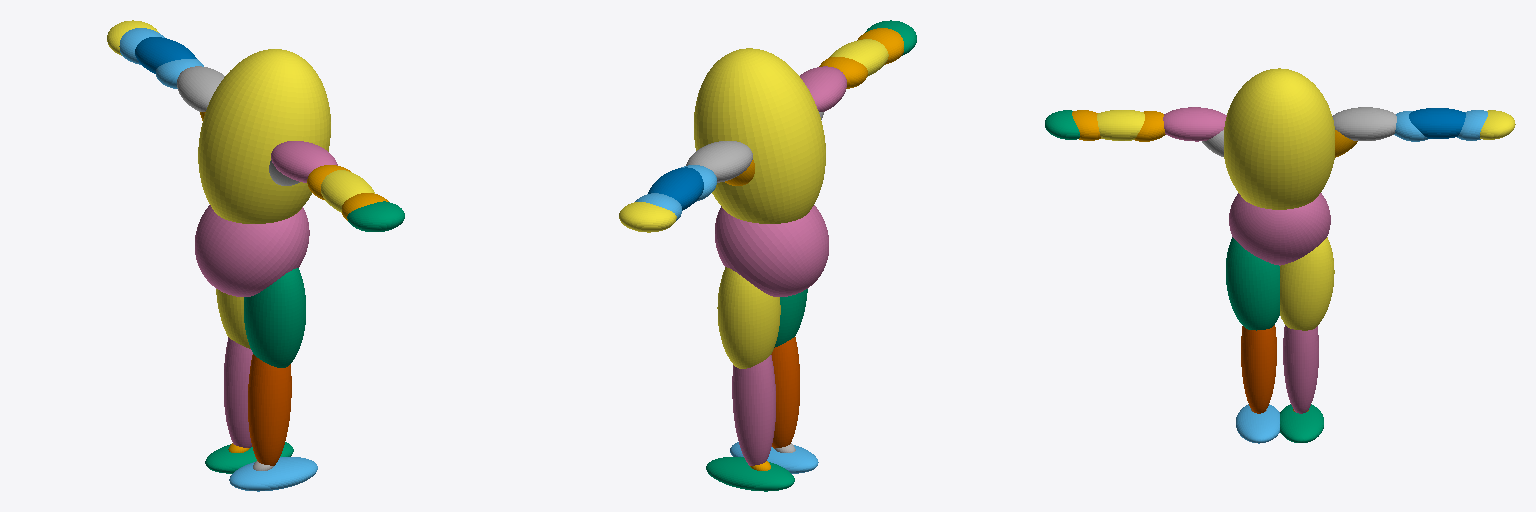
--- Render facts (derived) ---
The picture shows the robot from 3 angles, left to right: view 1: azimuth 30°, elevation 25°; view 2: azimuth 150°, elevation 25°; view 3: azimuth 270°, elevation 25°; orthographic projection.
Robot: drc_skeleton — 28 links, 27 joints (27 revolute); root link pelvis; default pose: all joints at 0.
Links seen in each view (by area): view 1: utorso, pelvis, r_uleg, r_lleg, l_lleg, r_foot, r_scap, l_scap, r_hand, l_larm, r_larm, l_uleg (+6 smaller); view 2: utorso, pelvis, l_uleg, l_lleg, r_lleg, l_foot, l_scap, r_scap, l_larm, l_hand, r_larm, r_uleg (+4 smaller); view 3: utorso, pelvis, l_uleg, r_uleg, r_lleg, l_lleg, l_scap, r_scap, l_larm, r_foot, l_foot, r_larm (+6 smaller).
Boxes of the visible links, x1,y1,x2,y2 form: utorso: (198,49,330,223); pelvis: (195,205,309,296); r_uleg: (244,268,305,367); r_lleg: (248,354,291,465); l_lleg: (224,337,252,447); r_foot: (229,457,317,491); r_scap: (271,141,337,182); l_scap: (177,66,224,111); r_hand: (347,201,404,231); l_larm: (135,37,196,73); r_larm: (321,170,374,212); l_uleg: (216,289,250,348); utorso: (694,48,825,223); pelvis: (715,205,828,296); l_uleg: (717,267,780,368); l_lleg: (732,355,775,465); r_lleg: (771,337,799,448); l_foot: (706,457,794,491); l_scap: (686,141,752,182); r_scap: (800,66,846,111); l_larm: (648,167,703,210); l_hand: (619,202,676,232); r_larm: (829,39,888,76); r_uleg: (774,289,807,347); utorso: (1224,68,1334,209); pelvis: (1229,193,1330,265); l_uleg: (1280,237,1334,330); r_uleg: (1226,237,1279,330); r_lleg: (1241,325,1276,413); l_lleg: (1283,325,1318,413); l_scap: (1332,107,1396,140); r_scap: (1163,107,1226,141); l_larm: (1409,108,1465,138); r_foot: (1236,404,1279,443); l_foot: (1280,404,1323,442); r_larm: (1097,110,1144,140).
Bounding box of the posed robot: 0.5073 × 1.99 × 1.7 m (x, y, z).
Meshes: 28 distinct files referenced, 28 mesh visuals loaded (28 binary STL).

The robot description file, URDF, robot "drc_skeleton":
<!-- These are atlas torso and limb models, for full Atlas robot model, please see
     xacro files containing fully assembed robots in ellipsoidal_atlas/robots/ -->
<robot name="drc_skeleton">
    <link name="l_clav">
        <inertial>
            <mass value="2.369" />
            <origin xyz="0.014 0.058 0.029" rpy="0 -0 0" />
            <inertia ixx="0.004" ixy="0.001" ixz="0" iyy="0.006" iyz="0" izz="0.007" />
        </inertial>
        <visual>
            <origin xyz="0 0 0" rpy="1.04719755 0 0" />
            <geometry>
                <mesh filename="package://ellipsoidal_atlas/meshes/ellip_l_clav.stl" scale="1 1 1" />
            </geometry>
        </visual>
        <collision>
          <origin rpy="0 1.5707963267949 0" xyz="0 0.0697 0.0261"/>
          <geometry>
            <cylinder radius="0.045" length="0.1525"/>
          </geometry>
        </collision>
        <collision>
          <origin rpy="1.0472 0 0" xyz="-0.005 -0.0074 -0.0538"/>
          <geometry>
            <box size="0.13 0.15 0.05"/>
          </geometry>
        </collision>
    </link>
    <link name="l_farm">
        <inertial>
            <mass value="0.981" />
            <origin xyz="0 0.041 0" rpy="0 -0 0" />
            <inertia ixx="0.003" ixy="0" ixz="0" iyy="0.001" iyz="0" izz="0.003" />
        </inertial>
        <visual>
            <origin xyz="0 -0.06 0" rpy="0 -0 0" />
            <geometry>
                <mesh filename="package://ellipsoidal_atlas/meshes/ellip_l_farm.stl" scale="1 1 1" />
            </geometry>
        </visual>
        <collision>
          <origin rpy="0 1.5708 0" xyz="0.0 0.065 0.004"/>
          <geometry>
            <cylinder radius="0.045" length="0.125"/>
          </geometry>
        </collision>
        <collision>
          <origin rpy="0 0 0" xyz="0.001 0.015 -0.002"/>
          <geometry>
            <box size="0.135 0.1 0.045"/>
          </geometry>
        </collision>
    </link>
    <link name="l_foot">
        <inertial>
            <mass value="1.634" />
            <origin xyz="0.027 0 -0.067" rpy="0 -0 0" />
            <inertia ixx="0.002" ixy="0" ixz="0" iyy="0.007" iyz="0" izz="0.008" />
        </inertial>
        <visual>
            <origin xyz="0 0 0" rpy="0 -0 0" />
            <geometry>
                <mesh filename="package://ellipsoidal_atlas/meshes/ellip_l_foot.stl" scale="1 1 1" />
            </geometry>
        </visual>
        <!-- bottom -->
        <collision>
          <origin xyz="0.048 0 -0.056119" rpy="0 0 0"/>
          <geometry>
            <box size="0.26 0.124887 0.05"/>
          </geometry>
        </collision>
        <!-- ankle FIXME: adding this collision body destabilizes robot, shouldn't
        <collision>
          <origin xyz="0.0 0 -0.0528735" rpy="0 0 0"/>
          <geometry>
            <cylinder radius="0.0373" length="0.037827"/>
          </geometry>
        </collision>
        -->
    </link>
    <link name="l_hand">
        <inertial>
            <mass value="2.263" />
            <origin xyz="0 0.093 0" rpy="0 -0 0" />
            <inertia ixx="0.01" ixy="0" ixz="0" iyy="0.002" iyz="0" izz="0.01" />
        </inertial>
        <visual>
            <origin xyz="0 0 0" rpy="0 -0 0" />
            <geometry>
                <mesh filename="package://ellipsoidal_atlas/meshes/ellip_l_hand.stl" scale="1 1 1" />
            </geometry>
        </visual>
        <collision>
          <origin rpy="1.5707963267949 0 0" xyz="0.001 0.1 0.01"/>
          <geometry>
            <cylinder radius="0.03" length="0.05"/>
          </geometry>
        </collision>
        <collision>
          <origin rpy="0 0 0" xyz="0.001 0.05 0.01"/>
          <geometry>
            <box size="0.13 0.09 0.07"/>
          </geometry>
        </collision>
    </link>
    <link name="l_larm">
        <inertial>
            <mass value="2.148" />
            <origin xyz="-0.003 0.099 -0.014" rpy="0 -0 0" />
            <inertia ixx="0.005" ixy="0" ixz="0" iyy="0.003" iyz="0" izz="0.006" />
        </inertial>
        <visual>
            <origin xyz="0 0 0" rpy="0 -0 0" />
            <geometry>
                <mesh filename="package://ellipsoidal_atlas/meshes/ellip_l_larm.stl" scale="1 1 1" />
            </geometry>
        </visual>
        <collision>
          <origin rpy="1.5707963267949 0 0" xyz="0.001 0.127 0.00"/>
          <geometry>
            <cylinder radius="0.045" length="0.125"/>
          </geometry>
        </collision>
        <collision>
          <origin rpy="0 0 0" xyz="0.001 0.051 0.0"/>
          <geometry>
            <box size="0.135 0.15 0.06"/>
          </geometry>
        </collision>
    </link>
    <link name="l_lglut">
        <inertial>
            <mass value="0.69" />
            <origin xyz="0.0133341 0.0170484 -0.0312052" rpy="0 -0 0" />
            <inertia ixx="0.000691326" ixy="-2.24344e-05" ixz="2.50508e-06" iyy="0.00126856" iyz="0.000137862" izz="0.00106487" />
        </inertial>
        <visual>
            <origin xyz="0 0 0" rpy="0 -0 0" />
            <geometry>
                <mesh filename="package://ellipsoidal_atlas/meshes/ellip_l_lglut.stl" scale="1 1 1" />
            </geometry>
        </visual>
        <collision>
          <origin rpy="1.5707963267949 0 0" xyz="0.049968 0.022488 -0.0501165"/>
          <geometry>
            <cylinder radius="0.02009687" length="0.060306"/>
          </geometry>
        </collision>
        <collision>
          <origin rpy="0 1.5707963267949 0" xyz="0 0 0"/>
          <geometry>
            <cylinder radius="0.02" length="0.12"/>
          </geometry>
        </collision>
    </link>
    <link name="l_lleg">
        <inertial>
            <mass value="4.367" />
            <origin xyz="0.001 0 -0.187" rpy="0 -0 0" />
            <inertia ixx="0.077" ixy="0" ixz="-0.003" iyy="0.076" iyz="0" izz="0.01" />
        </inertial>
        <visual>
            <origin xyz="0 0 0" rpy="0 -0 0" />
            <geometry>
                <mesh filename="package://ellipsoidal_atlas/meshes/ellip_l_lleg.stl" scale="1.0 1.0 1.0" />
            </geometry>
        </visual>
        <collision>
          <origin rpy="0 0.10 0" xyz="0.02 0.00295 -0.18"/>
          <geometry>
            <cylinder radius="0.07" length="0.40"/>
          </geometry>
        </collision>
    </link>
    <link name="l_scap">
        <inertial>
            <mass value="2.707" />
            <origin xyz="-0.002 0.108 0" rpy="0 -0 0" />
            <inertia ixx="0.01" ixy="0" ixz="0" iyy="0.005" iyz="0" izz="0.013" />
        </inertial>
        <visual>
            <origin xyz="0 0 0" rpy="0 0 0" />
            <geometry>
                <mesh filename="package://ellipsoidal_atlas/meshes/ellip_l_scap.stl" scale="1 1 1" />
            </geometry>
        </visual>
        <collision>
          <origin rpy="1.5707963267949 0 0" xyz="0.001 0.12651 0.01521"/>
          <geometry>
            <cylinder radius="0.045" length="0.125"/>
          </geometry>
        </collision>
        <collision>
          <origin rpy="0 0 0" xyz="0.001 0.05 0.016"/>
          <geometry>
            <box size="0.15 0.15 0.06"/>
          </geometry>
        </collision>
    </link>
    <link name="l_talus">
        <inertial>
            <mass value="0.1" />
            <origin xyz="0 0 0" rpy="0 -0 0" />
            <inertia ixx="1.01674e-05" ixy="0" ixz="0" iyy="8.42775e-06" iyz="0" izz="1.30101e-05" />
        </inertial>
        <visual>
            <origin xyz="0 0 0" rpy="0 -0 0" />
            <geometry>
                <mesh filename="package://ellipsoidal_atlas/meshes/ellip_l_talus.stl" scale="1 1 1" />
            </geometry>
        </visual>
        <collision>
          <origin rpy="0 1.5707963267949 0" xyz="0 0 0"/>
          <geometry>
            <cylinder radius="0.010181" length="0.029542"/>
          </geometry>
        </collision>
        <collision>
          <origin rpy="1.5707963267949 0 0" xyz="0 0 0"/>
          <geometry>
            <cylinder radius="0.010348" length="0.010059"/>
          </geometry>
        </collision>
    </link>
    <link name="l_uarm">
        <inertial>
            <mass value="1.881" />
            <origin xyz="0.007 0.114 0.008" rpy="0 -0 0" />
            <inertia ixx="0.002" ixy="0" ixz="0" iyy="0.003" iyz="0" izz="0.003" />
        </inertial>
        <visual>
            <origin xyz="0 0 0" rpy="0 -0 0" />
            <geometry>
                <mesh filename="package://ellipsoidal_atlas/meshes/ellip_l_uarm.stl" scale="1 1 1" />
            </geometry>
        </visual>
        <collision>
          <origin rpy="0 1.5708 0" xyz="0.001 0.111 0.0"/>
          <geometry>
            <cylinder radius="0.045" length="0.125"/>
          </geometry>
        </collision>
        <collision>
          <origin rpy="0 1.5707963267949 0" xyz="0.001 0.043 0.01"/>
          <geometry>
            <box size="0.04 0.07 0.13"/>
          </geometry>
        </collision>
    </link>
    <link name="l_uglut">
        <inertial>
            <mass value="0.5166" />
            <origin xyz="0.00529262 -0.00344732 0.00313046" rpy="0 -0 0" />
            <inertia ixx="0.00074276" ixy="-3.79607e-08" ixz="-2.79549e-05" iyy="0.000688179" iyz="-3.2735e-08" izz="0.00041242" />
        </inertial>
        <visual>
            <origin xyz="0 0 0" rpy="0 -0 0" />
            <geometry>
                <mesh filename="package://ellipsoidal_atlas/meshes/ellip_l_uglut.stl" scale="1 1 1" />
            </geometry>
        </visual>
        <collision>
          <origin rpy="0 1.5707963267949 0" xyz="0 0 0"/>
          <geometry>
            <cylinder radius="0.019096" length="0.078396"/>
          </geometry>
        </collision>
        <collision>
          <origin rpy="0 0 0" xyz="0 0 0"/>
          <geometry>
            <cylinder radius="0.019841" length="0.080842"/>
          </geometry>
        </collision>
    </link>
    <link name="l_uleg">
        <inertial>
            <mass value="7.34" />
            <origin xyz="0 0 -0.21" rpy="0 -0 0" />
            <inertia ixx="0.09" ixy="0" ixz="0" iyy="0.09" iyz="0" izz="0.02" />
        </inertial>
        <visual>
            <origin xyz="0 0 0" rpy="0 -0 0" />
            <geometry>
                <mesh filename="package://ellipsoidal_atlas/meshes/ellip_l_uleg.stl" scale="1.0 1.0 1.0" />
            </geometry>
        </visual>
        <collision>
          <origin rpy="0 0 0" xyz="-0.0179 0.02085 -0.13"/>
          <geometry>
            <cylinder radius="0.1" length="0.10"/>
          </geometry>
        </collision>
        <collision>
          <origin rpy="0 -0.3 0" xyz="-0.03 0.01 -0.23"/>
          <geometry>
            <cylinder radius="0.07" length="0.15"/>
          </geometry>
        </collision>
        <collision>
          <origin rpy="0 0.3 0" xyz="-0.005 0.01 -0.23"/>
          <geometry>
            <cylinder radius="0.07" length="0.15"/>
          </geometry>
        </collision>
        <collision>
          <origin rpy="-0.25 0 0" xyz="-0.02 0.03 -0.23"/>
          <geometry>
            <cylinder radius="0.07" length="0.15"/>
          </geometry>
        </collision>
    </link>
    <link name="ltorso">
        <inertial>
            <mass value="1.92" />
            <origin xyz="-0.0112984 -3.15366e-06 0.0746835" rpy="0 -0 0" />
            <inertia ixx="0.0039092" ixy="-5.04491e-08" ixz="-0.000342157" iyy="0.00341694" iyz="4.87119e-07" izz="0.00174492" />
        </inertial>
        <visual>
            <origin xyz="0 0 0" rpy="0 -0 0" />
            <geometry>
                <mesh filename="package://ellipsoidal_atlas/meshes/ellip_ltorso.stl" scale="1 1 1" />
            </geometry>
        </visual>
        <!-- this part is completely internal
        <collision>
          <origin rpy="0 0 0" xyz="0 0 0.039762"/>
          <geometry>
            <cylinder radius="0.025918" length="0.076922"/>
          </geometry>
        </collision>
        <collision>
          <origin rpy="1.5707963267949 0 0" xyz="0 0.0250065 0.09025"/>
          <geometry>
            <cylinder radius="0.014828" length="0.020367"/>
          </geometry>
        </collision>
        <collision>
          <origin rpy="1.5707963267949 0 0" xyz="0 -0.0248895 0.09025"/>
          <geometry>
            <cylinder radius="0.014828" length="0.020169"/>
          </geometry>
        </collision>
        -->
    </link>
    <link name="mtorso">
        <inertial>
            <mass value="0.55" />
            <origin xyz="-0.00816266 -0.0131245 0.0305974" rpy="0 -0 0" />
            <inertia ixx="0.000454181" ixy="-6.10764e-05" ixz="3.94009e-05" iyy="0.000483282" iyz="5.27463e-05" izz="0.000444215" />
        </inertial>
        <visual>
            <origin xyz="0 0 0" rpy="0 -0 0" />
            <geometry>
                <mesh filename="package://ellipsoidal_atlas/meshes/ellip_mtorso.stl" scale="1 1 1" />
            </geometry>
        </visual>
        <collision>
          <origin rpy="1.5707963267949 0 0" xyz="0 0 0"/>
          <geometry>
            <cylinder radius="0.017" length="0.03"/>
          </geometry>
        </collision>
        <collision>
          <origin rpy="0 1.5707963267949 0" xyz="0.0285 0 0.05"/>
          <geometry>
            <cylinder radius="0.015" length="0.02"/>
          </geometry>
        </collision>
        <collision>
          <origin rpy="0 1.5707963267949 0" xyz="-0.0285 0 0.05"/>
          <geometry>
            <cylinder radius="0.015" length="0.02"/>
          </geometry>
        </collision>
    </link>
    <link name="pelvis">
        <inertial>
            <mass value="14.2529" />
            <origin xyz="0.0111 0 0.0271" rpy="0 -0 0" />
            <inertia ixx="0.1244" ixy="0.0008" ixz="-0.0007"
                     iyy="0.0958" iyz="-0.0005"
                     izz="0.1167" />
        </inertial>
        <visual>
            <origin xyz="0 0 0" rpy="0 -0 0" />
            <geometry>
                <mesh filename="package://ellipsoidal_atlas/meshes/ellip_pelvis.stl" scale="1.0 1.0 1.0" />
            </geometry>
        </visual>
        <collision>
          <origin rpy="1.5707963267949 0 0" xyz="0.046 0.0 -0.02"/>
          <geometry>
            <cylinder radius="0.11" length="0.06"/>
          </geometry>
        </collision>
        <collision>
          <origin rpy="1.5707963267949 0 0" xyz="-0.03 0.0 -0.02"/>
          <geometry>
            <cylinder radius="0.11" length="0.06"/>
          </geometry>
        </collision>
        <collision>
          <origin rpy="0 0 0" xyz="0.01 0.042 0.09"/>
          <geometry>
            <cylinder radius="0.16" length="0.05"/>
          </geometry>
        </collision>
        <collision>
          <origin rpy="0 0 0" xyz="0.01 -0.042 0.09"/>
          <geometry>
            <cylinder radius="0.16" length="0.05"/>
          </geometry>
        </collision>
        <collision>
          <origin rpy="0 0 0" xyz="-0.1 0 -0.05"/>
          <geometry>
            <box size="0.1 0.15 0.2"/>
          </geometry>
        </collision>
    </link>
    <link name="r_clav">
        <inertial>
            <mass value="2.369" />
            <origin xyz="0.014 -0.058 0.029" rpy="0 -0 0" />
            <inertia ixx="0.004" ixy="-0.001" ixz="0" iyy="0.006" iyz="0" izz="0.007" />
        </inertial>
        <visual>
            <origin xyz="0 0 0" rpy="-1.04719755 0 0" />
            <geometry>
                <mesh filename="package://ellipsoidal_atlas/meshes/ellip_r_clav.stl" scale="1 1 1" />
            </geometry>
        </visual>
        <collision>
          <origin rpy="0 1.5707963267949 0" xyz="0 -0.0697 0.0261"/>
          <geometry>
            <cylinder radius="0.045" length="0.1525"/>
          </geometry>
        </collision>
        <collision>
          <origin rpy="-1.0472 0 0" xyz="-0.005 0.0074 -0.0538"/>
          <geometry>
            <box size="0.13 0.15 0.05"/>
          </geometry>
        </collision>
    </link>
    <link name="r_farm">
        <inertial>
            <mass value="0.981" />
            <origin xyz="0 -0.041 0" rpy="0 -0 0" />
            <inertia ixx="0.003" ixy="0" ixz="0" iyy="0.001" iyz="0" izz="0.003" />
        </inertial>
        <visual>
            <origin xyz="0 0.06 0" rpy="0 -0 0" />
            <geometry>
                <mesh filename="package://ellipsoidal_atlas/meshes/ellip_r_farm.stl" scale="1 1 1" />
            </geometry>
        </visual>
        <collision>
          <origin rpy="0 1.5708 0" xyz="0.0 -0.065 0.004"/>
          <geometry>
            <cylinder radius="0.045" length="0.125"/>
          </geometry>
        </collision>
        <collision>
          <origin rpy="0 0 0" xyz="0.001 -0.015 -0.002"/>
          <geometry>
            <box size="0.135 0.1 0.045"/>
          </geometry>
        </collision>
    </link>
    <link name="r_foot">
        <inertial>
            <mass value="1.634" />
            <origin xyz="0.027 0 -0.067" rpy="0 -0 0" />
            <inertia ixx="0.002" ixy="0" ixz="0" iyy="0.007" iyz="0" izz="0.008" />
        </inertial>
        <visual>
            <origin xyz="0 0 0" rpy="0 -0 0" />
            <geometry>
                <mesh filename="package://ellipsoidal_atlas/meshes/ellip_r_foot.stl" scale="1 1 1" />
            </geometry>
        </visual>
        <!-- bottom -->
        <collision>
          <origin xyz="0.048 0 -0.056119" rpy="0 0 0"/>
          <geometry>
            <box size="0.26 0.124887 0.05"/>
          </geometry>
        </collision>
        <!-- ankle FIXME: adding this collision body destabilizes robot, shouldn't
        <collision>
          <origin xyz="0.0 0 -0.0528735" rpy="0 0 0"/>
          <geometry>
            <cylinder radius="0.0373" length="0.037827"/>
          </geometry>
        </collision>
        -->
    </link>
    <link name="r_hand">
        <inertial>
            <mass value="2.263" />
            <origin xyz="0 -0.093 0" rpy="0 -0 0" />
            <inertia ixx="0.01" ixy="0" ixz="0" iyy="0.002" iyz="0" izz="0.01" />
        </inertial>
        <visual>
            <origin xyz="0 0 0" rpy="0 -0 0" />
            <geometry>
                <mesh filename="package://ellipsoidal_atlas/meshes/ellip_r_hand.stl" scale="1 1 1" />
            </geometry>
        </visual>
        <collision>
          <origin rpy="1.5707963267949 0 0" xyz="0.001 -0.1 0.01"/>
          <geometry>
            <cylinder radius="0.03" length="0.05"/>
          </geometry>
        </collision>
        <collision>
          <origin rpy="0 0 0" xyz="0.001 -0.05 0.01"/>
          <geometry>
            <box size="0.13 0.09 0.07"/>
          </geometry>
        </collision>
    </link>
    <link name="r_larm">
        <inertial>
            <mass value="2.148" />
            <origin xyz="-0.003 -0.099 -0.014" rpy="0 -0 0" />
            <inertia ixx="0.005" ixy="0" ixz="0" iyy="0.003" iyz="0" izz="0.006" />
        </inertial>
        <visual>
            <origin xyz="0 0 0" rpy="0 -0 0" />
            <geometry>
                <mesh filename="package://ellipsoidal_atlas/meshes/ellip_r_larm.stl" scale="1.0 1.0 1.0" />
            </geometry>
        </visual>
        <collision>
          <origin rpy="1.5707963267949 0 0" xyz="0.001 -0.127 0.00"/>
          <geometry>
            <cylinder radius="0.045" length="0.125"/>
          </geometry>
        </collision>
        <collision>
          <origin rpy="0 0 0" xyz="0.001 -0.051 0.0"/>
          <geometry>
            <box size="0.135 0.15 0.06"/>
          </geometry>
        </collision>
    </link>
    <link name="r_lglut">
        <inertial>
            <mass value="0.69" />
            <origin xyz="0.0133341 -0.0170484 -0.0312052" rpy="0 -0 0" />
            <inertia ixx="0.000691326" ixy="2.24344e-05" ixz="2.50508e-06" iyy="0.00126856" iyz="-0.000137862" izz="0.00106487" />
        </inertial>
        <visual>
            <origin xyz="0 0 0" rpy="0 -0 0" />
            <geometry>
                <mesh filename="package://ellipsoidal_atlas/meshes/ellip_r_lglut.stl" scale="1.0 1.0 1.0" />
            </geometry>
        </visual>
        <collision>
          <origin rpy="1.5707963267949 0 0" xyz="0.049968 -0.022488 -0.0501165"/>
          <geometry>
            <cylinder radius="0.02009687" length="0.060306"/>
          </geometry>
        </collision>
        <collision>
          <origin rpy="0 1.5707963267949 0" xyz="0 0 0"/>
          <geometry>
            <cylinder radius="0.02" length="0.12"/>
          </geometry>
        </collision>
    </link>
    <link name="r_lleg">
        <inertial>
            <mass value="4.367" />
            <origin xyz="0.001 0 -0.187" rpy="0 -0 0" />
            <inertia ixx="0.077" ixy="-0" ixz="-0.003" iyy="0.076" iyz="-0" izz="0.01" />
        </inertial>
        <visual>
            <origin xyz="0 0 0" rpy="0 -0 0" />
            <geometry>
                <mesh filename="package://ellipsoidal_atlas/meshes/ellip_r_lleg.stl" scale="1.0 1.0 1.0" />
            </geometry>
        </visual>
        <collision>
          <origin rpy="0 0.10 0" xyz="0.02 -0.00295 -0.18"/>
          <geometry>
            <cylinder radius="0.07" length="0.40"/>
          </geometry>
        </collision>
    </link>
    <link name="r_scap">
        <inertial>
            <mass value="2.707" />
            <origin xyz="-0.002 -0.108 0" rpy="0 -0 0" />
            <inertia ixx="0.01" ixy="0" ixz="0" iyy="0.005" iyz="0" izz="0.013" />
        </inertial>
        <visual>
            <origin xyz="0 0 0" rpy="0 -0 0" />
            <geometry>
                <mesh filename="package://ellipsoidal_atlas/meshes/ellip_r_scap.stl" scale="1 1 1" />
            </geometry>
        </visual>
        <collision>
          <origin rpy="1.5707963267949 0 0" xyz="0.001 -0.12651 0.01521"/>
          <geometry>
            <cylinder radius="0.045" length="0.125"/>
          </geometry>
        </collision>
        <collision>
          <origin rpy="0 0 0" xyz="0.001 -0.05 0.016"/>
          <geometry>
            <box size="0.15 0.15 0.06"/>
          </geometry>
        </collision>
    </link>
    <link name="r_talus">
        <inertial>
            <mass value="0.1" />
            <origin xyz="0 0 0" rpy="0 -0 0" />
            <inertia ixx="1.01674e-05" ixy="0" ixz="0" iyy="8.42775e-06" iyz="0" izz="1.30101e-05" />
        </inertial>
        <visual>
            <origin xyz="0 0 0" rpy="0 -0 0" />
            <geometry>
                <mesh filename="package://ellipsoidal_atlas/meshes/ellip_r_talus.stl" scale="1 1 1" />
            </geometry>
        </visual>
        <collision>
          <origin rpy="0 1.5707963267949 0" xyz="0 0 0"/>
          <geometry>
            <cylinder radius="0.010181" length="0.029542"/>
          </geometry>
        </collision>
        <collision>
          <origin rpy="1.5707963267949 0 0" xyz="0 0 0"/>
          <geometry>
            <cylinder radius="0.010348" length="0.010059"/>
          </geometry>
        </collision>
    </link>
    <link name="r_uarm">
        <inertial>
            <mass value="1.881" />
            <origin xyz="0.007 -0.114 0.008" rpy="0 -0 0" />
            <inertia ixx="0.002" ixy="0" ixz="0" iyy="0.003" iyz="0" izz="0.003" />
        </inertial>
        <visual>
            <origin xyz="0 0 0" rpy="0 -0 0" />
            <geometry>
                <mesh filename="package://ellipsoidal_atlas/meshes/ellip_r_uarm.stl" scale="1.0 1.0 1.0" />
            </geometry>
        </visual>
        <collision>
          <origin rpy="0 1.5708 0" xyz="0.001 -0.111 0.0"/>
          <geometry>
            <cylinder radius="0.045" length="0.125"/>
          </geometry>
        </collision>
        <collision>
          <origin rpy="0 1.5707963267949 0" xyz="0.001 -0.043 0.01"/>
          <geometry>
            <box size="0.04 0.07 0.13"/>
          </geometry>
        </collision>
    </link>
    <link name="r_uglut">
        <inertial>
            <mass value="0.5166" />
            <origin xyz="0.00529262 0.00344732 0.00313046" rpy="0 -0 0" />
            <inertia ixx="0.00074276" ixy="3.79607e-08" ixz="-2.79549e-05" iyy="0.000688179" iyz="3.2735e-08" izz="0.00041242" />
        </inertial>
        <visual>
            <origin xyz="0 0 0" rpy="0 -0 0" />
            <geometry>
                <mesh filename="package://ellipsoidal_atlas/meshes/ellip_r_uglut.stl" scale="1.0 1.0 1.0" />
            </geometry>
        </visual>
        <collision>
          <origin rpy="0 1.5707963267949 0" xyz="0 0 0"/>
          <geometry>
            <cylinder radius="0.019096" length="0.078396"/>
          </geometry>
        </collision>
        <collision>
          <origin rpy="0 0 0" xyz="0 0 0"/>
          <geometry>
            <cylinder radius="0.019841" length="0.080842"/>
          </geometry>
        </collision>
    </link>
    <link name="r_uleg">
        <inertial>
            <mass value="7.34" />
            <origin xyz="0 0 -0.21" rpy="0 -0 0" />
            <inertia ixx="0.09" ixy="0" ixz="0" iyy="0.09" iyz="0" izz="0.02" />
        </inertial>
        <visual>
            <origin xyz="0 0 0" rpy="0 -0 0" />
            <geometry>
                <mesh filename="package://ellipsoidal_atlas/meshes/ellip_r_uleg.stl" scale="1.0 1.0 1.0" />
            </geometry>
        </visual>
        <collision>
          <origin rpy="0 0 0" xyz="-0.0179 -0.02085 -0.13"/>
          <geometry>
            <cylinder radius="0.1" length="0.10"/>
          </geometry>
        </collision>
        <collision>
          <origin rpy="0 -0.3 0" xyz="-0.03 -0.01 -0.23"/>
          <geometry>
            <cylinder radius="0.07" length="0.15"/>
          </geometry>
        </collision>
        <collision>
          <origin rpy="0 0.3 0" xyz="-0.005 -0.01 -0.23"/>
          <geometry>
            <cylinder radius="0.07" length="0.15"/>
          </geometry>
        </collision>
        <collision>
          <origin rpy="0.25 0 0" xyz="-0.02 -0.03 -0.23"/>
          <geometry>
            <cylinder radius="0.07" length="0.15"/>
          </geometry>
        </collision>
    </link>
    <link name="utorso">
        <inertial>
            <mass value="18.484" />
            <origin xyz="0.02 -0.001 0.211" rpy="0 -0 0" />
            <!--
            <inertia ixx="0.395" ixy="0" ixz="0.083" iyy="1.089" iyz="-0.003" izz="0.327" />
            -->
            <inertia ixx="0.395" ixy="0" ixz="0.083" iyy="1.089" iyz="-0.003" izz="0.827" />
        </inertial>
        <visual>
            <origin xyz="0 0 0" rpy="0 -0 0" />
            <geometry>
                <mesh filename="package://ellipsoidal_atlas/meshes/ellip_utorso.stl" scale="1 1 1" />
            </geometry>
        </visual>
        <collision>
          <origin rpy="0 -0 0" xyz="0.0446 0 0.1869"/>
          <geometry>
            <box size="0.3188 0.24 0.3162"/>
          </geometry>
        </collision>
        <collision>
          <origin rpy="-0.5236 0 0" xyz="0.024 0.16 0.18"/>
          <geometry>
            <cylinder radius="0.0363" length="0.22375"/>
          </geometry>
        </collision>
        <collision>
          <origin rpy="0.5236 0 0" xyz="0.024 -0.16 0.18"/>
          <geometry>
            <cylinder radius="0.0363" length="0.22375"/>
          </geometry>
        </collision>
    </link>
    <joint name="back_lbz" type="revolute">
        <origin xyz="-0.0125 0 0" rpy="0 -0 0" />
        <axis xyz="0 0 1" />
        <parent link="pelvis" />
        <child link="ltorso" />
        <dynamics damping="10" friction="0" />
        <limit effort="124.016" velocity="12" lower="-0.610865" upper="0.610865" />
        <safety_controller k_position="100" k_velocity="100" soft_lower_limit="-10.6109" soft_upper_limit="10.6109" />
    </joint>
    <joint name="back_mby" type="revolute">
        <origin xyz="0 0 0.09" rpy="0 -0 0" />
        <axis xyz="0 1 0" />
        <parent link="ltorso" />
        <child link="mtorso" />
        <dynamics damping="10" friction="0" />
        <limit effort="206.843" velocity="12" lower="-1.2" upper="1.28" />
        <safety_controller k_position="100" k_velocity="100" soft_lower_limit="-11.2" soft_upper_limit="11.28" />
    </joint>
    <joint name="back_ubx" type="revolute">
        <origin xyz="0 0 0.05" rpy="0 -0 0" />
        <axis xyz="1 0 0" />
        <parent link="mtorso" />
        <child link="utorso" />
        <dynamics damping="10" friction="0" />
        <limit effort="94.91" velocity="12" lower="-0.790809" upper="0.790809" />
        <safety_controller k_position="100" k_velocity="100" soft_lower_limit="-10.7908" soft_upper_limit="10.7908" />
    </joint>
    <joint name="l_arm_elx" type="revolute">
        <origin xyz="0 0.121 0.013" rpy="0 -0 0" />
        <axis xyz="1 0 0" />
        <parent link="l_uarm" />
        <child link="l_larm" />
        <dynamics damping="1.0" friction="0" />
        <limit effort="114" velocity="12" lower="0" upper="2.35619" />
        <safety_controller k_position="100" k_velocity="100" soft_lower_limit="-10" soft_upper_limit="12.3562" />
    </joint>
    <joint name="l_arm_ely" type="revolute">
        <origin xyz="0 0.185 0" rpy="0 -0 0" />
        <axis xyz="0 1 0" />
        <parent link="l_scap" />
        <child link="l_uarm" />
        <dynamics damping="1.0" friction="0" />
        <limit effort="114" velocity="12" lower="0" upper="3.14159" />
        <safety_controller k_position="100" k_velocity="100" soft_lower_limit="-10" soft_upper_limit="13.1416" />
    </joint>
    <joint name="l_arm_mwx" type="revolute">
        <origin xyz="0 0.058 0" rpy="0 -0 0" />
        <axis xyz="1 0 0" />
        <parent link="l_farm" />
        <child link="l_hand" />
        <dynamics damping="1.0" friction="0" />
        <limit effort="60" velocity="12" lower="-0.436" upper="1.571" />
        <safety_controller k_position="100" k_velocity="100" soft_lower_limit="-10.436" soft_upper_limit="11.571" />
    </joint>
    <joint name="l_arm_shx" type="revolute">
        <origin xyz="0 0.075 0.036" rpy="0 -0 0" />
        <axis xyz="1 0 0" />
        <parent link="l_clav" />
        <child link="l_scap" />
        <dynamics damping="1.0" friction="0" />
        <limit effort="170" velocity="12" lower="-1.39626" upper="1.74533" />
        <safety_controller k_position="100" k_velocity="100" soft_lower_limit="-11.3963" soft_upper_limit="11.7453" />
    </joint>
    <joint name="l_arm_usy" type="revolute">
        <origin xyz="0.024 0.221 0.289" rpy="0 -0 0" />
        <axis xyz="0 0.5 0.866025" />
        <parent link="utorso" />
        <child link="l_clav" />
        <dynamics damping="1.0" friction="0" />
        <limit effort="212" velocity="12" lower="-1.9635" upper="1.9635" />
        <safety_controller k_position="100" k_velocity="100" soft_lower_limit="-11.9635" soft_upper_limit="11.9635" />
    </joint>
    <joint name="l_arm_uwy" type="revolute">
        <origin xyz="0 0.188 -0.013" rpy="0 -0 0" />
        <axis xyz="0 1 0" />
        <parent link="l_larm" />
        <child link="l_farm" />
        <dynamics damping="1.0" friction="0" />
        <limit effort="114" velocity="12" lower="-1.571" upper="1.571" />
        <safety_controller k_position="100" k_velocity="100" soft_lower_limit="-11.571" soft_upper_limit="11.571" />
    </joint>
    <joint name="l_leg_kny" type="revolute">
        <origin xyz="-0.05 0 -0.374" rpy="0 -0 0" />
        <axis xyz="0 1 0" />
        <parent link="l_uleg" />
        <child link="l_lleg" />
        <dynamics damping="1.0" friction="0" />
        <limit effort="400" velocity="12" lower="0" upper="2.45" />
        <safety_controller k_position="100" k_velocity="100" soft_lower_limit="-10" soft_upper_limit="12.45" />
    </joint>
    <joint name="l_leg_lax" type="revolute">
        <origin xyz="0 0 0" rpy="0 -0 0" />
        <axis xyz="1 0 0" />
        <parent link="l_talus" />
        <child link="l_foot" />
        <dynamics damping="1.0" friction="0" />
        <limit effort="90" velocity="12" lower="-0.436" upper="0.436" />
        <safety_controller k_position="100" k_velocity="100" soft_lower_limit="-10.436" soft_upper_limit="10.436" />
    </joint>
    <joint name="l_leg_lhy" type="revolute">
        <origin xyz="0.05 0 -0.05" rpy="0 -0 0" />
        <axis xyz="0 1 0" />
        <parent link="l_lglut" />
        <child link="l_uleg" />
        <dynamics damping="1.0" friction="0" />
        <limit effort="260" velocity="12" lower="-1.75" upper="0.524" />
        <safety_controller k_position="100" k_velocity="100" soft_lower_limit="-11.75" soft_upper_limit="10.524" />
    </joint>
    <joint name="l_leg_mhx" type="revolute">
        <origin xyz="0 0 0" rpy="0 -0 0" />
        <axis xyz="1 0 0" />
        <parent link="l_uglut" />
        <child link="l_lglut" />
        <dynamics damping="1.0" friction="0" />
        <limit effort="180" velocity="12" lower="-0.47" upper="0.495" />
        <safety_controller k_position="100" k_velocity="100" soft_lower_limit="-10.47" soft_upper_limit="10.495" />
    </joint>
    <joint name="l_leg_uay" type="revolute">
        <origin xyz="0 0 -0.422" rpy="0 -0 0" />
        <axis xyz="0 1 0" />
        <parent link="l_lleg" />
        <child link="l_talus" />
        <dynamics damping="1.0" friction="0" />
        <limit effort="220" velocity="12" lower="-0.9" upper="0.698" />
        <safety_controller k_position="100" k_velocity="100" soft_lower_limit="-10.698" soft_upper_limit="10.698" />
    </joint>
    <joint name="l_leg_uhz" type="revolute">
        <origin xyz="0 0.089 0" rpy="0 -0 0" />
        <axis xyz="0 0 1" />
        <parent link="pelvis" />
        <child link="l_uglut" />
        <dynamics damping="1.0" friction="0" />
        <limit effort="110" velocity="12" lower="-0.32" upper="1.14" />
        <safety_controller k_position="100" k_velocity="100" soft_lower_limit="-10.32" soft_upper_limit="11.14" />
    </joint>
    <!--joint name="neck_ay" type="revolute">
        <per slides on sensor head kinematics 2013-02-13>
        <origin xyz="0.21672 0 0.53796" rpy="0 -0 0" />
        <axis xyz="0 1 0" />
        <parent link="utorso" />
        <child link="head" />
        <dynamics damping="1.0" friction="0" /-->
        <!-- per slides on sensor head kinematics 2012-12-14 >
        <limit effort="5" lower="-0.610865238" upper="1.13446401" velocity="12"/>
        <safety_controller k_position="100" k_velocity="100" soft_lower_limit="-10.610865238" soft_upper_limit="11.13446401"/>
    </joint-->
    <joint name="r_arm_elx" type="revolute">
        <origin xyz="0 -0.121 0.013" rpy="0 -0 0" />
        <axis xyz="1 0 0" />
        <parent link="r_uarm" />
        <child link="r_larm" />
        <dynamics damping="1.0" friction="0" />
        <limit effort="114" velocity="12" lower="-2.35619" upper="0" />
        <safety_controller k_position="100" k_velocity="100" soft_lower_limit="-12.3562" soft_upper_limit="10" />
    </joint>
    <joint name="r_arm_ely" type="revolute">
        <origin xyz="0 -0.185 0" rpy="0 -0 0" />
        <axis xyz="0 1 0" />
        <parent link="r_scap" />
        <child link="r_uarm" />
        <dynamics damping="1.0" friction="0" />
        <limit effort="114" velocity="12" lower="0" upper="3.14159" />
        <safety_controller k_position="100" k_velocity="100" soft_lower_limit="-10" soft_upper_limit="13.1416" />
    </joint>
    <joint name="r_arm_mwx" type="revolute">
        <origin xyz="0 -0.058 0" rpy="0 -0 0" />
        <axis xyz="1 0 0" />
        <parent link="r_farm" />
        <child link="r_hand" />
        <dynamics damping="1.0" friction="0" />
        <limit effort="60" velocity="12" lower="-1.571" upper="0.436" />
        <safety_controller k_position="100" k_velocity="100" soft_lower_limit="-11.571" soft_upper_limit="10.436" />
    </joint>
    <joint name="r_arm_shx" type="revolute">
        <origin xyz="0 -0.075 0.036" rpy="0 -0 0" />
        <axis xyz="1 0 0" />
        <parent link="r_clav" />
        <child link="r_scap" />
        <dynamics damping="1.0" friction="0" />
        <limit effort="170" velocity="12" lower="-1.74533" upper="1.39626" />
        <safety_controller k_position="100" k_velocity="100" soft_lower_limit="-11.7453" soft_upper_limit="11.3963" />
    </joint>
    <joint name="r_arm_usy" type="revolute">
        <origin xyz="0.024 -0.221 0.289" rpy="0 -0 0" />
        <axis xyz="0 0.5 -0.866025" />
        <parent link="utorso" />
        <child link="r_clav" />
        <dynamics damping="1.0" friction="0" />
        <limit effort="212" velocity="12" lower="-1.9635" upper="1.9635" />
        <safety_controller k_position="100" k_velocity="100" soft_lower_limit="-11.9635" soft_upper_limit="11.9635" />
    </joint>
    <joint name="r_arm_uwy" type="revolute">
        <origin xyz="0 -0.188 -0.013" rpy="0 -0 0" />
        <axis xyz="0 1 0" />
        <parent link="r_larm" />
        <child link="r_farm" />
        <dynamics damping="1.0" friction="0" />
        <limit effort="114" velocity="12" lower="-1.571" upper="1.571" />
        <safety_controller k_position="100" k_velocity="100" soft_lower_limit="-11.571" soft_upper_limit="11.571" />
    </joint>
    <joint name="r_leg_kny" type="revolute">
        <origin xyz="-0.05 0 -0.374" rpy="0 -0 0" />
        <axis xyz="0 1 0" />
        <parent link="r_uleg" />
        <child link="r_lleg" />
        <dynamics damping="1.0" friction="0" />
        <limit effort="400" velocity="12" lower="0" upper="2.45" />
        <safety_controller k_position="100" k_velocity="100" soft_lower_limit="-10" soft_upper_limit="12.45" />
    </joint>
    <joint name="r_leg_lax" type="revolute">
        <origin xyz="0 0 0" rpy="0 -0 0" />
        <axis xyz="1 0 0" />
        <parent link="r_talus" />
        <child link="r_foot" />
        <dynamics damping="1.0" friction="0" />
        <limit effort="90" velocity="12" lower="-0.436" upper="0.436" />
        <safety_controller k_position="100" k_velocity="100" soft_lower_limit="-10.436" soft_upper_limit="10.436" />
    </joint>
    <joint name="r_leg_lhy" type="revolute">
        <origin xyz="0.05 0 -0.05" rpy="0 -0 0" />
        <axis xyz="0 1 0" />
        <parent link="r_lglut" />
        <child link="r_uleg" />
        <dynamics damping="1.0" friction="0" />
        <limit effort="260" velocity="12" lower="-1.745" upper="0.524" />
        <safety_controller k_position="100" k_velocity="100" soft_lower_limit="-11.745" soft_upper_limit="10.524" />
    </joint>
    <joint name="r_leg_mhx" type="revolute">
        <origin xyz="0 0 0" rpy="0 -0 0" />
        <axis xyz="1 0 0" />
        <parent link="r_uglut" />
        <child link="r_lglut" />
        <dynamics damping="1.0" friction="0" />
        <limit effort="180" velocity="12" lower="-0.495" upper="0.47" />
        <safety_controller k_position="100" k_velocity="100" soft_lower_limit="-10.495" soft_upper_limit="10.47" />
    </joint>
    <joint name="r_leg_uay" type="revolute">
        <origin xyz="0 0 -0.422" rpy="0 -0 0" />
        <axis xyz="0 1 0" />
        <parent link="r_lleg" />
        <child link="r_talus" />
        <dynamics damping="1.0" friction="0" />
        <limit effort="220" velocity="12" lower="-0.9" upper="0.698" />
        <safety_controller k_position="100" k_velocity="100" soft_lower_limit="-10.698" soft_upper_limit="10.698" />
    </joint>
    <joint name="r_leg_uhz" type="revolute">
        <origin xyz="0 -0.089 0" rpy="0 -0 0" />
        <axis xyz="0 0 1" />
        <parent link="pelvis" />
        <child link="r_uglut" />
        <dynamics damping="1.0" friction="0" />
        <limit effort="110" velocity="12" lower="-1.14" upper="0.32" />
        <safety_controller k_position="100" k_velocity="100" soft_lower_limit="-11.14" soft_upper_limit="10.32" />
    </joint>
</robot>
